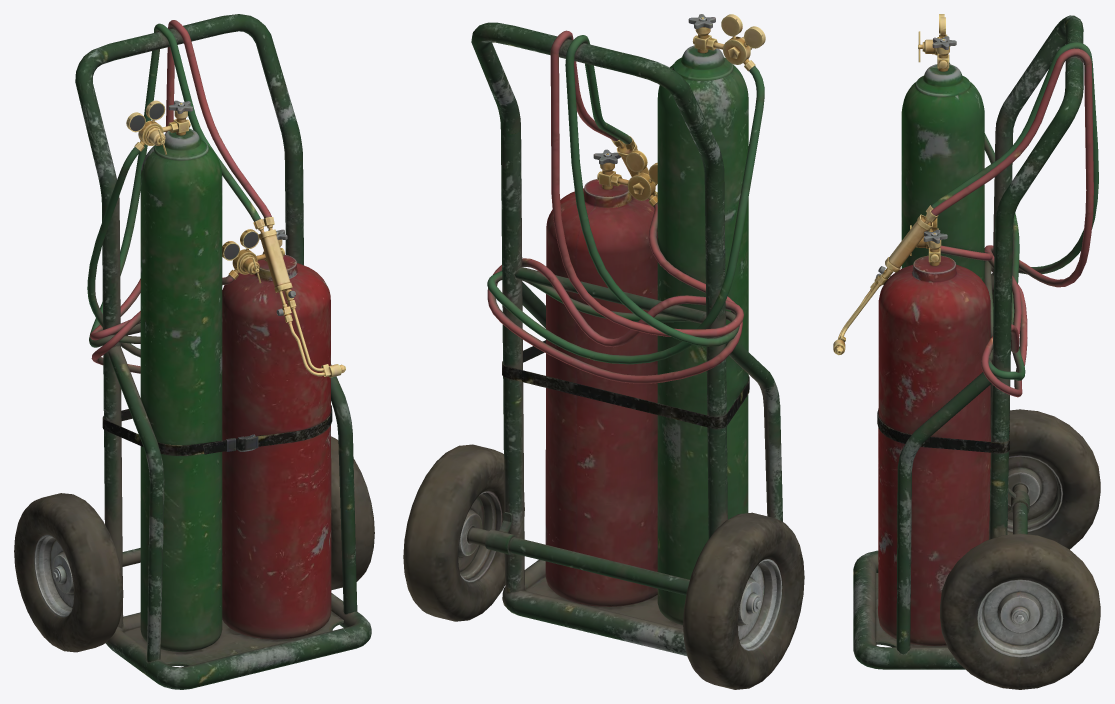
Rendered from kiln-cart.glb.
3 renders of one model, left to right at view 1: azimuth 30°, elevation 25°; view 2: azimuth 150°, elevation 25°; view 3: azimuth 270°, elevation 25°, orthographic. The views are drawn at different scales.
Parts seen in each view (by area): view 1: portable_welding_cart; view 2: portable_welding_cart; view 3: portable_welding_cart.
Boxes of the visible parts, <box> form: portable_welding_cart: <box>14,14,374,689</box>; portable_welding_cart: <box>403,14,804,689</box>; portable_welding_cart: <box>833,14,1100,689</box>.
Size of the model in its own units: 0.8383 by 1.56 by 0.6549.
2 materials, 2 textured.
